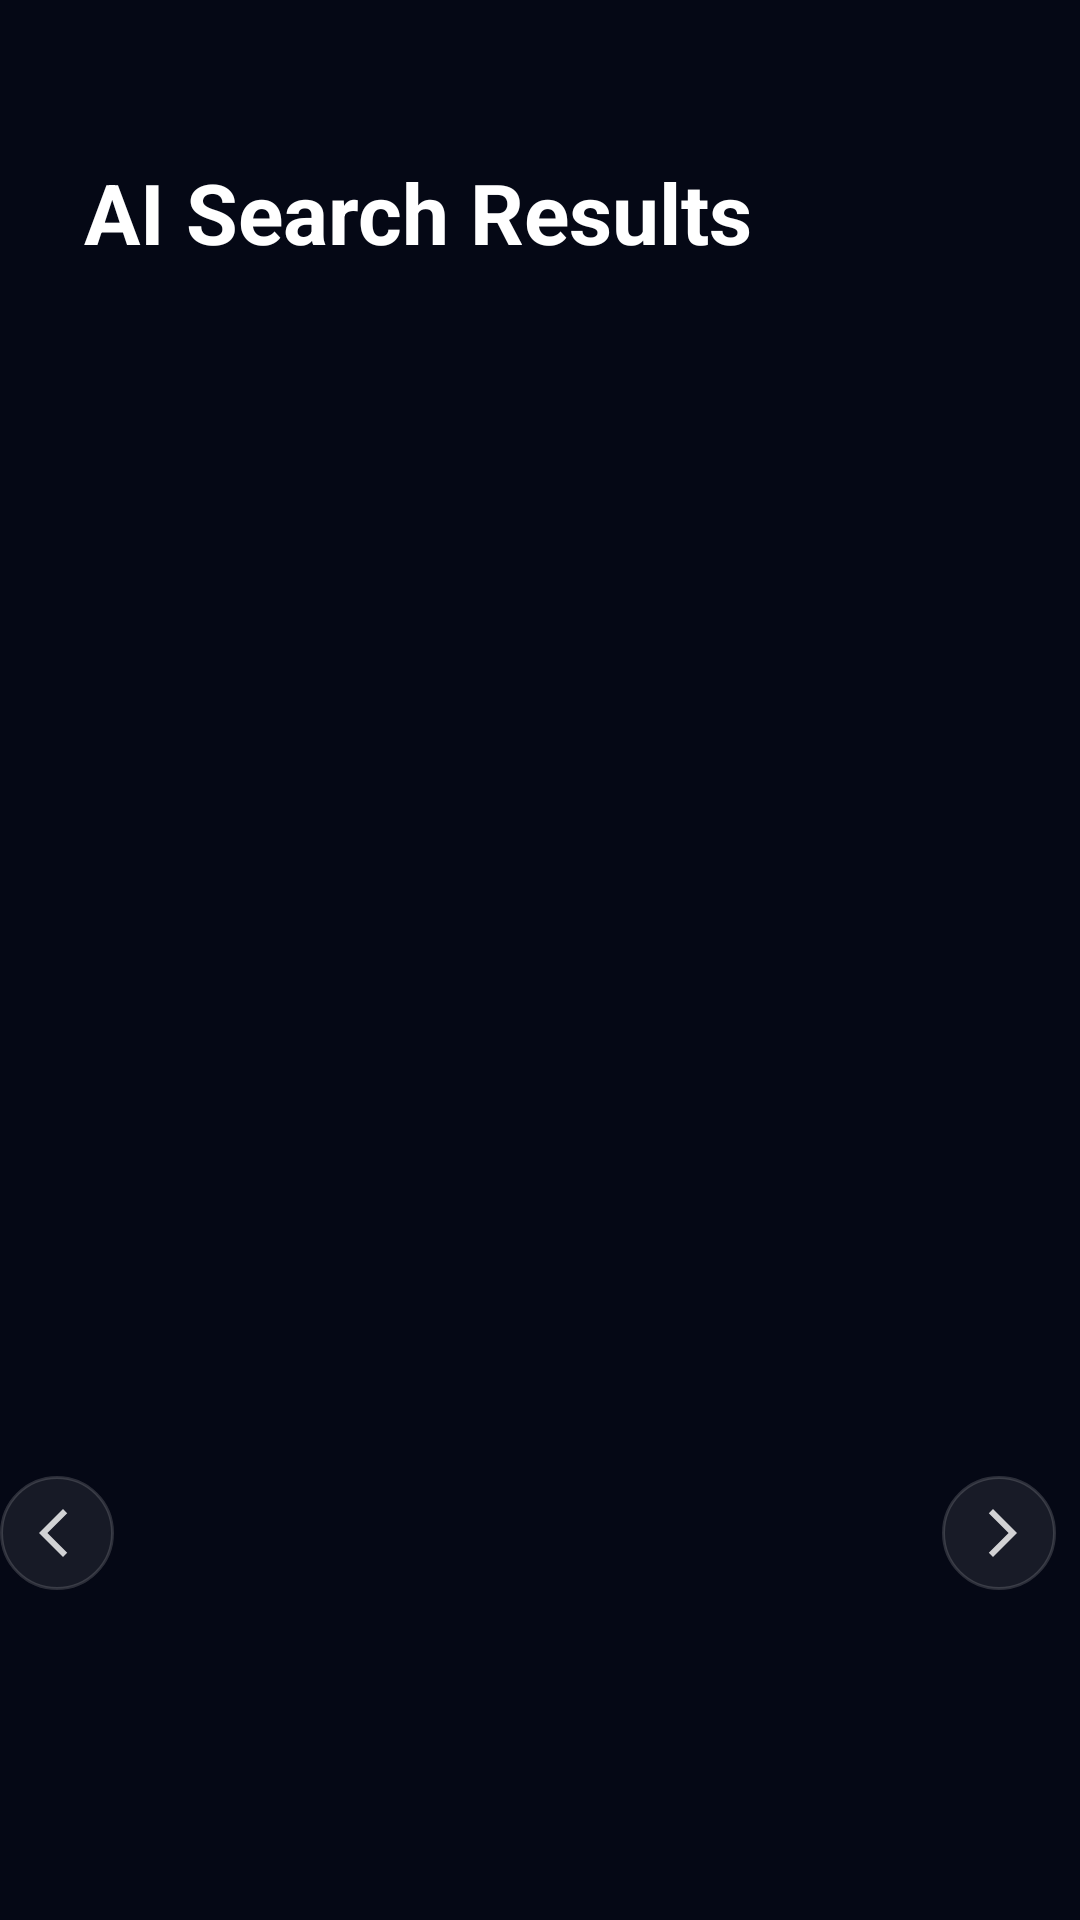

Screen size 1080x1920. Icon name, then its box in pixels as (x1,y1,x2,y2):
Next result: (942,1476,1056,1590)
